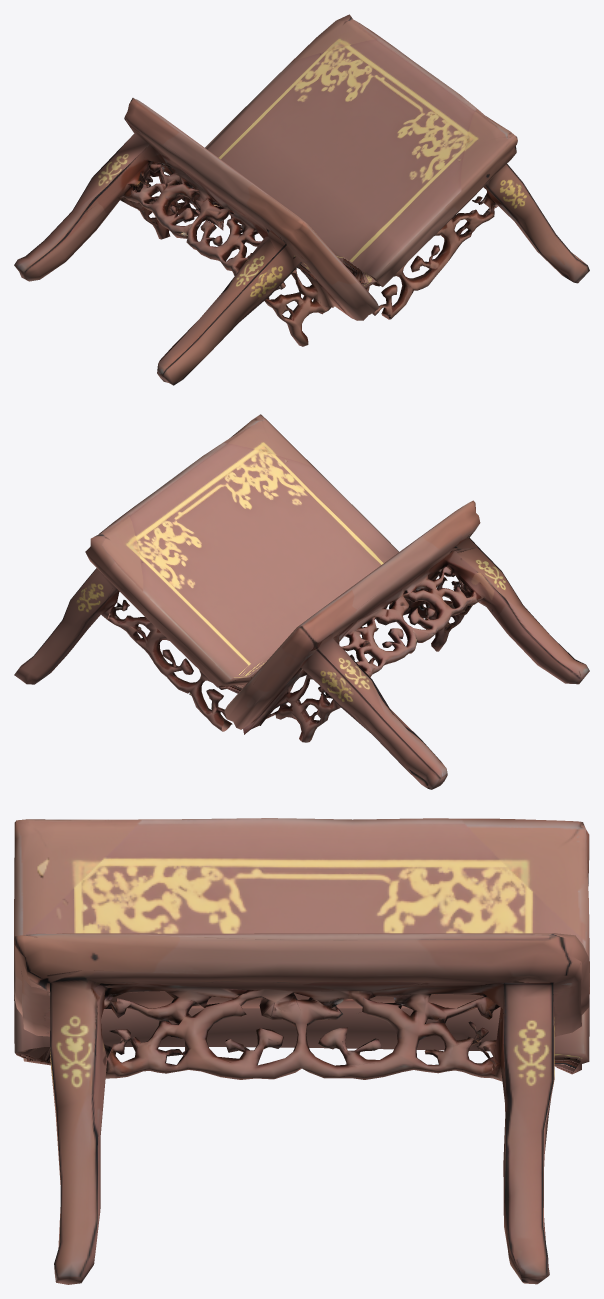
Rendered from Table_Level02_Broken 1.fbx.
The picture shows the model from 3 angles, top to bottom: view 1: azimuth 30°, elevation 25°; view 2: azimuth 150°, elevation 25°; view 3: azimuth 270°, elevation 25°; orthographic projection. The views are drawn at different scales.
Visible parts, largest first — view 1: Table02_Broken; view 2: Table02_Broken; view 3: Table02_Broken.
Boxes of the visible parts, x1=… form: Table02_Broken: x1=14, y1=14, x2=589, y2=385; Table02_Broken: x1=14, y1=414, x2=589, y2=789; Table02_Broken: x1=14, y1=818, x2=589, y2=1284.
Size of the model in its own units: 0.0272 by 0.0107 by 0.0191.
1 material, 1 textured.
